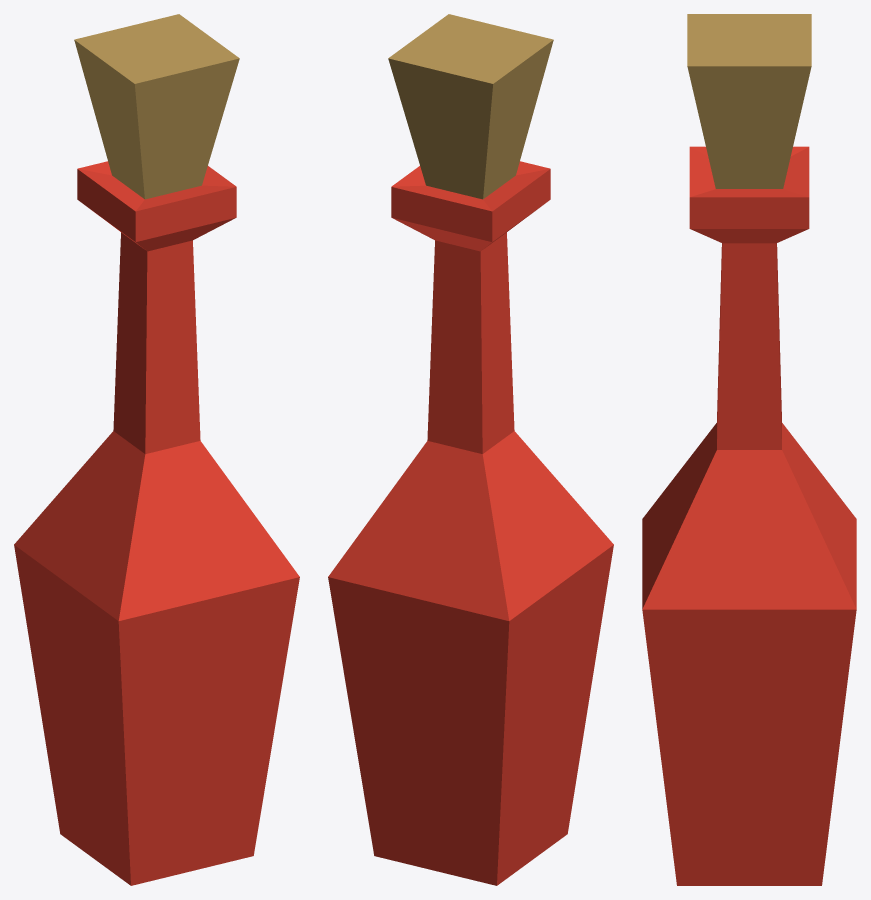
The model's file is Props.fbx_Window.fbx_Potion_Bottle.fbx.
3 views of the same model, side by side, from view 1: azimuth 30°, elevation 25°; view 2: azimuth 150°, elevation 25°; view 3: azimuth 270°, elevation 25° (orthographic). The views are drawn at different scales.
Parts seen in each view (by area): view 1: Potion Bottle; view 2: Potion Bottle; view 3: Potion Bottle.
Boxes of the visible parts, box(x1,y1,x2,y2) form: Potion Bottle: box(14, 14, 299, 885); Potion Bottle: box(328, 14, 613, 885); Potion Bottle: box(642, 14, 856, 885).
Bounding box in the file's own units: 0.1782 × 0.7476 × 0.1782.
